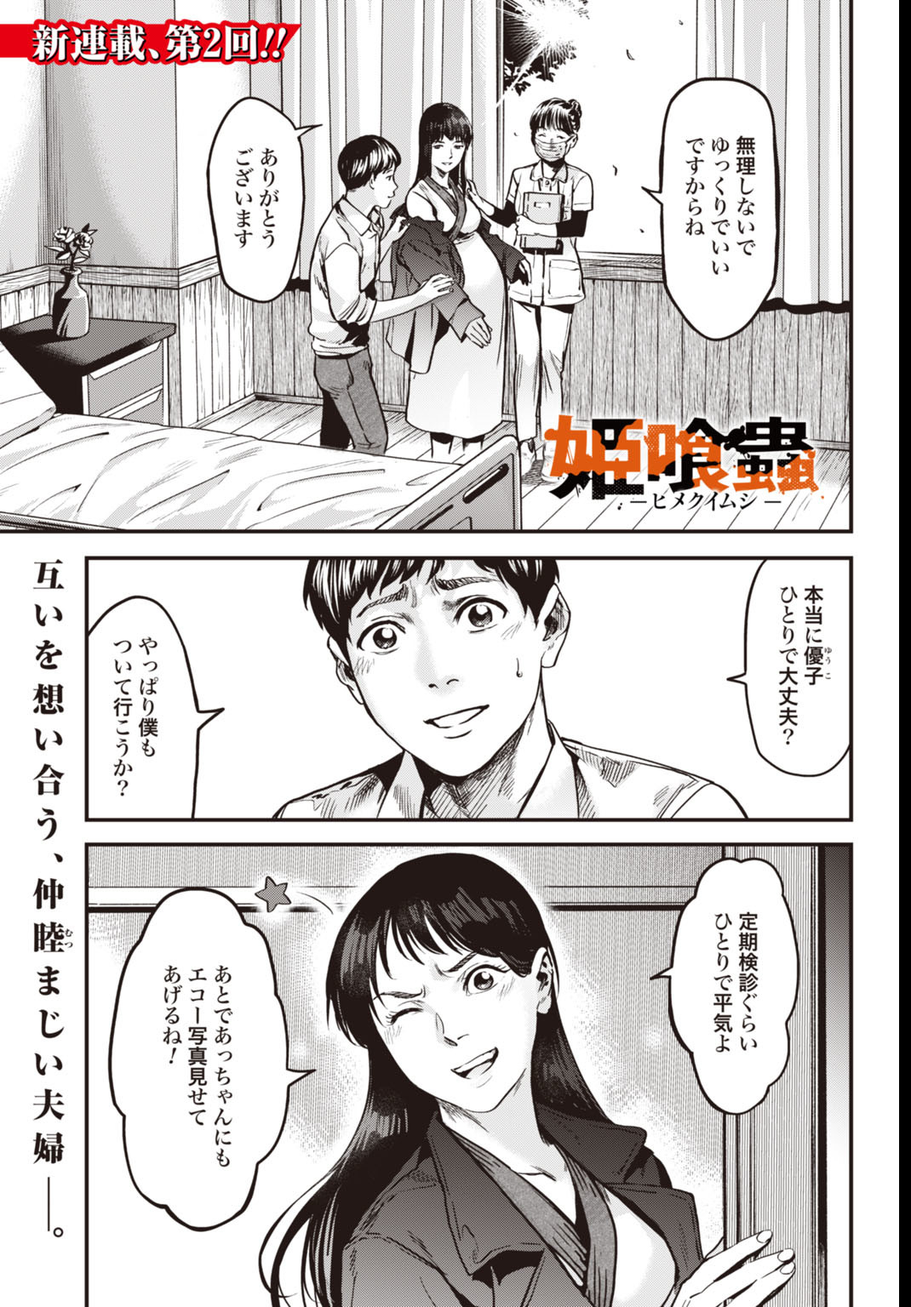bubbles: (102, 880, 324, 1242), (644, 851, 806, 1127), (638, 71, 788, 349), (84, 588, 234, 820), (719, 556, 852, 785), (204, 94, 329, 307)
